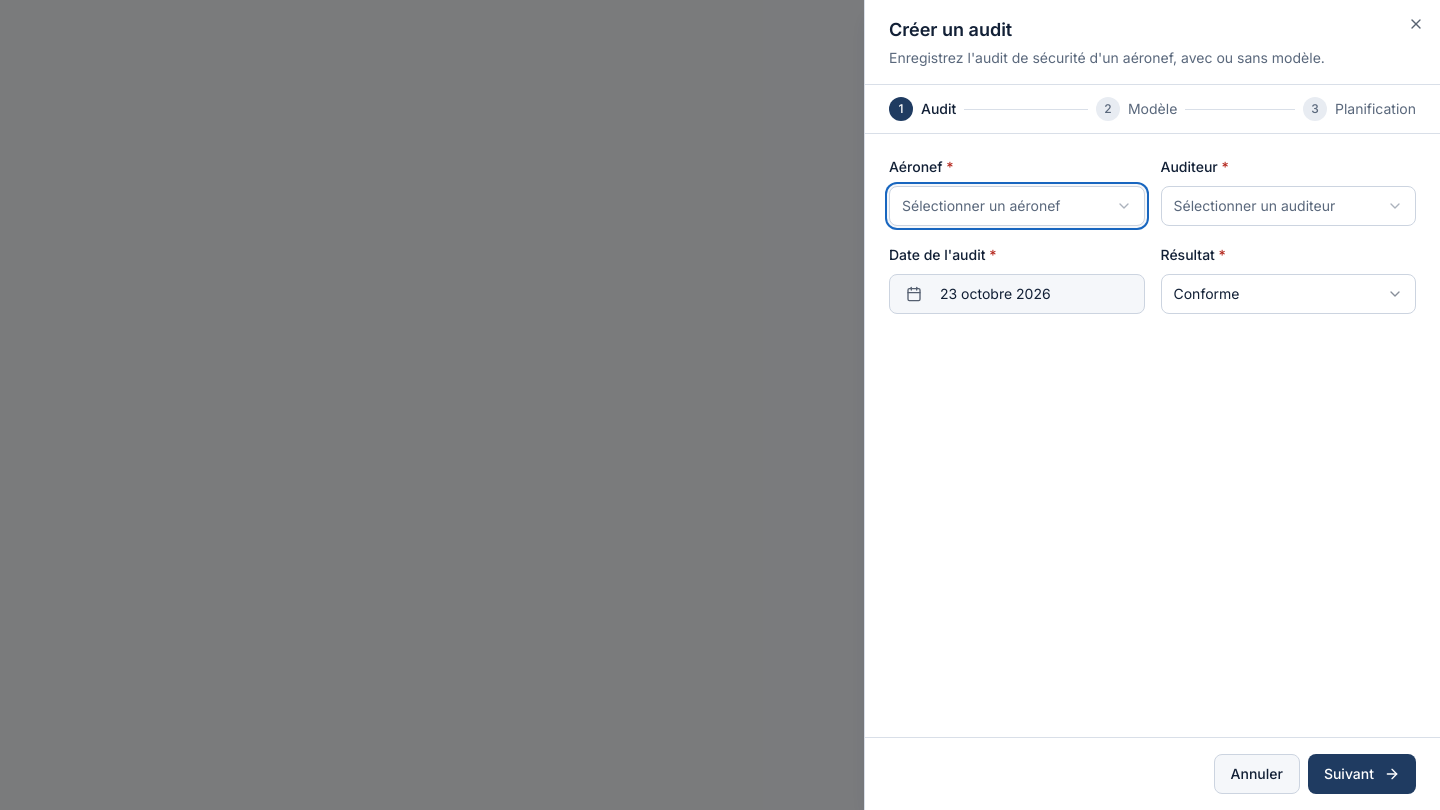
Scenario: CreateAuditDialog › reste sur la première étape tant que l'aéronef et l'auditeur ne sont pas choisis
What coordinates should you click on to do the following:
click the button "Suivant"
I would click on:
 (1362, 774)
Its box is x1=1308 y1=754 x2=1416 y2=794.
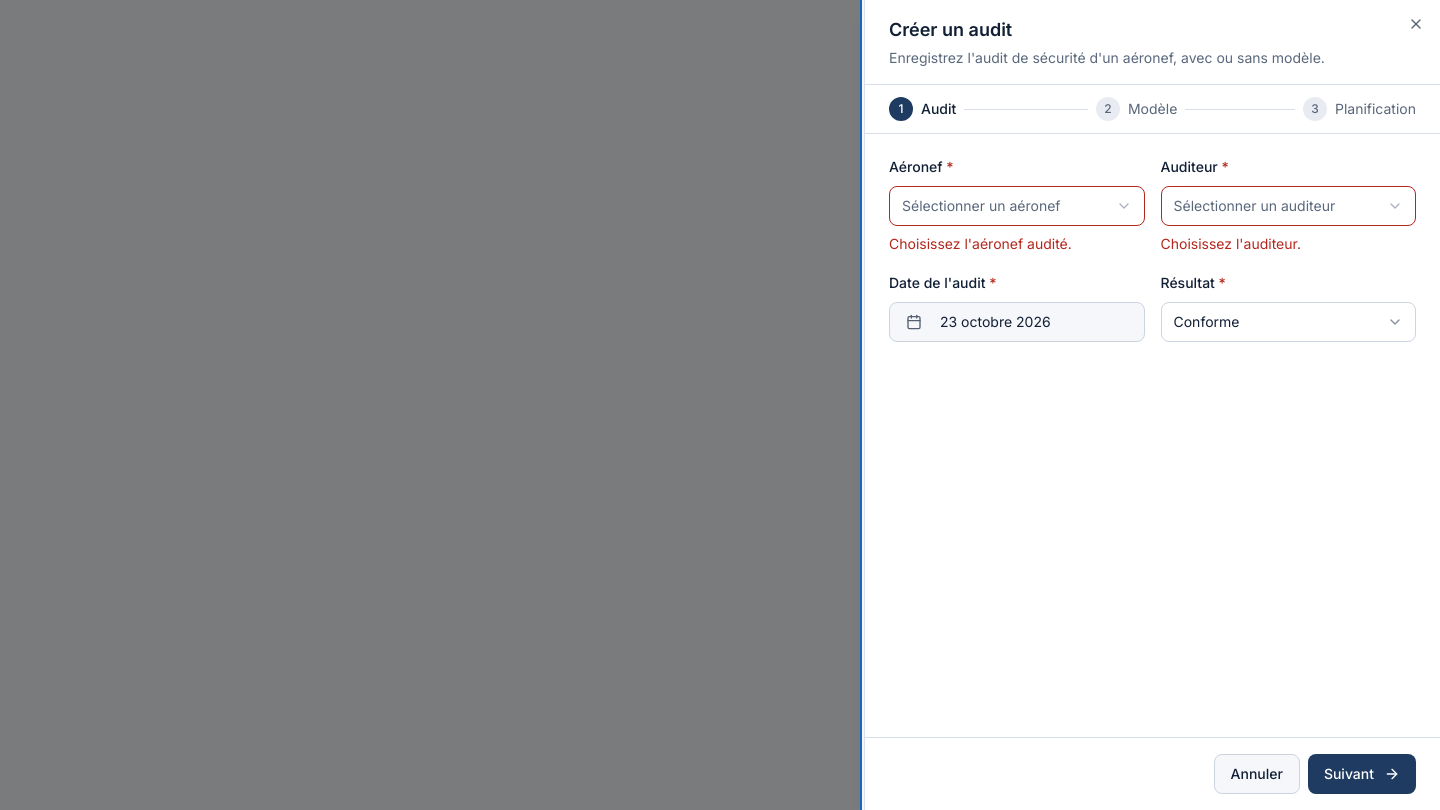
Expected: the text "Choisissez l'aéronef audité." is shown, x1=889 y1=235 x2=1072 y2=252
Expected: the text "Choisissez l'auditeur." is shown, x1=1160 y1=235 x2=1301 y2=252
